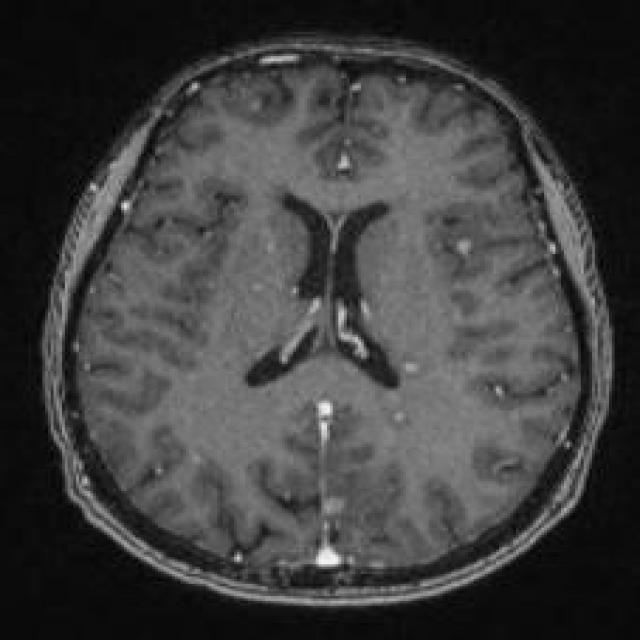notumor: (39, 39, 615, 608)
